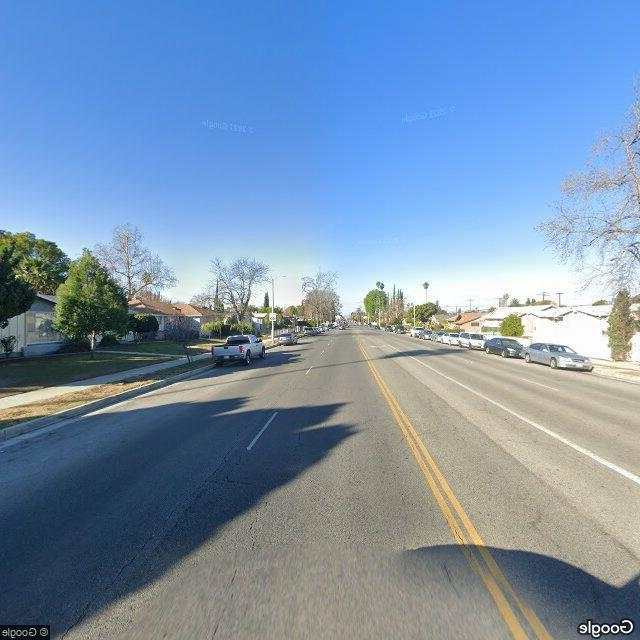pothole: (69, 444, 228, 630), (244, 495, 271, 551)
